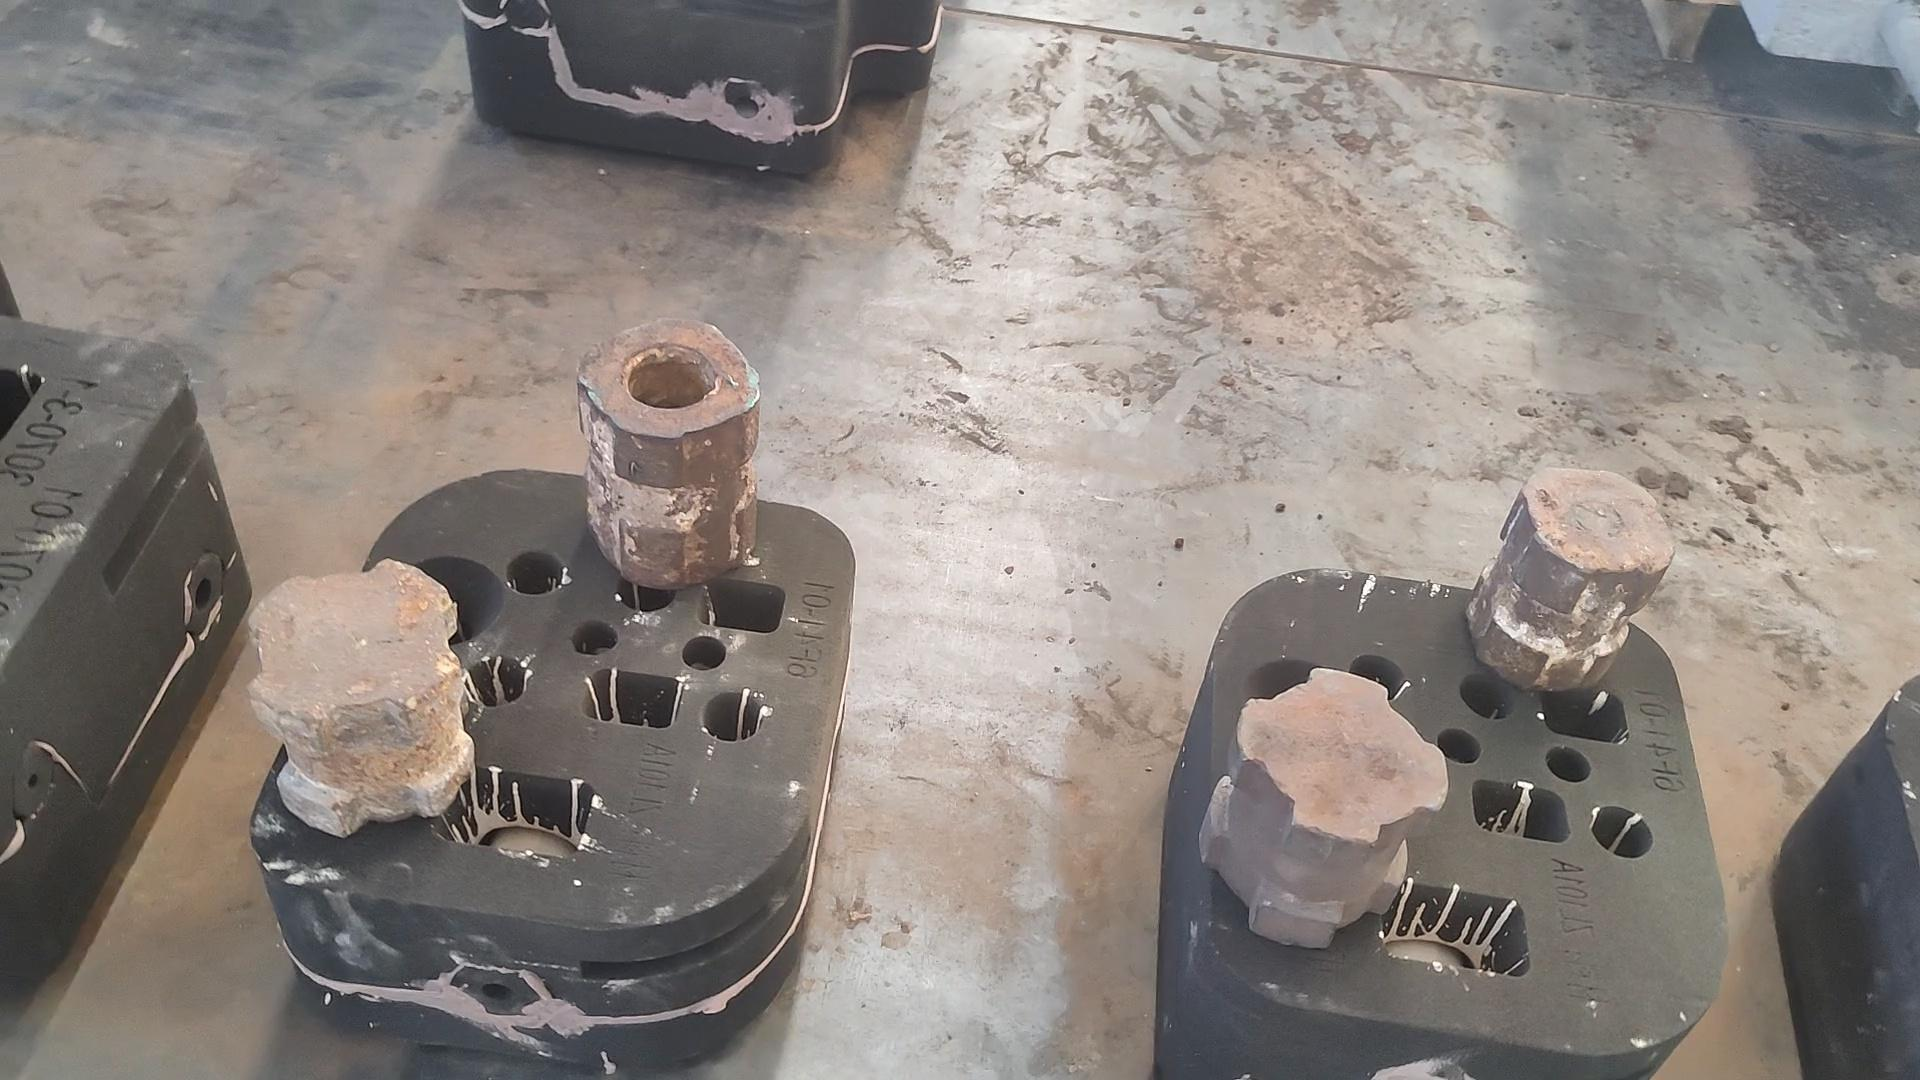pouring hole: (386, 556, 504, 647), (1241, 655, 1332, 737)
